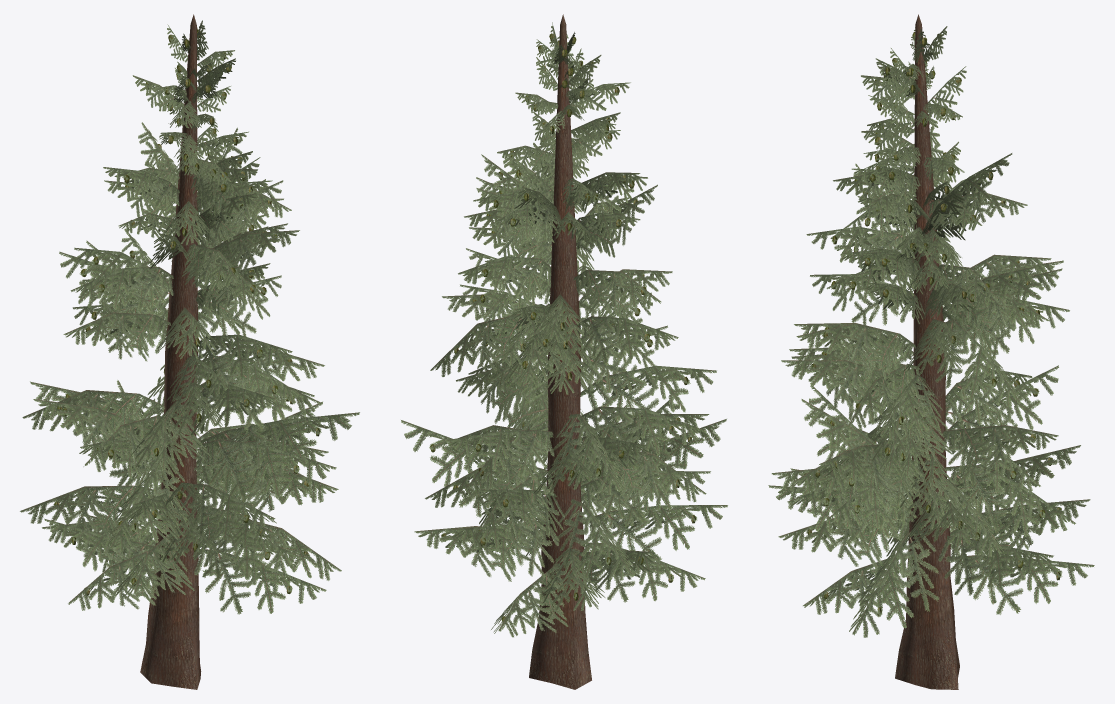
The model's file is Sequoia_Sempervirens_Spring_Young.glb.
The picture shows the model from 3 angles, left to right: view 1: azimuth 30°, elevation 25°; view 2: azimuth 150°, elevation 25°; view 3: azimuth 270°, elevation 25°; orthographic projection. The views are drawn at different scales.
Parts seen in each view (by area): view 1: Sequoia_Sempervirens_Spring_Young__LOD3; view 2: Sequoia_Sempervirens_Spring_Young__LOD3; view 3: Sequoia_Sempervirens_Spring_Young__LOD3.
Boxes of the visible parts, x1,y1,x2,y2 form: Sequoia_Sempervirens_Spring_Young__LOD3: (20, 14, 359, 689); Sequoia_Sempervirens_Spring_Young__LOD3: (401, 14, 727, 689); Sequoia_Sempervirens_Spring_Young__LOD3: (768, 14, 1094, 689).
Size of the model in its own units: 10.51 by 22.78 by 10.44.
Materials: 3 (3 with a texture image).
